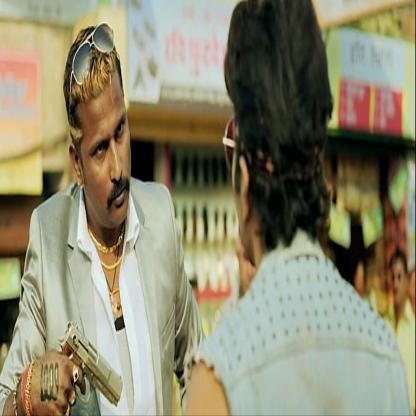gun: (58, 301, 129, 416)
